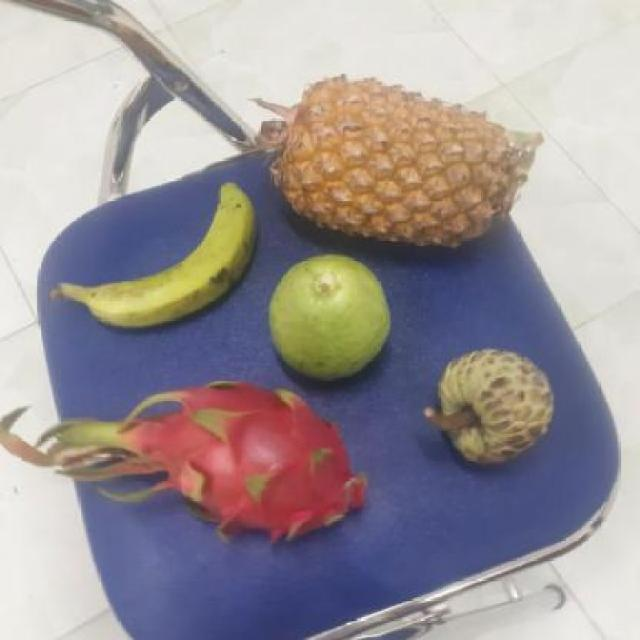banana: (85, 182, 268, 336)
dragon fruit: (144, 380, 367, 542)
guava: (268, 252, 397, 381)
pineapple: (275, 81, 527, 253)
sugar apple: (432, 348, 558, 464)
